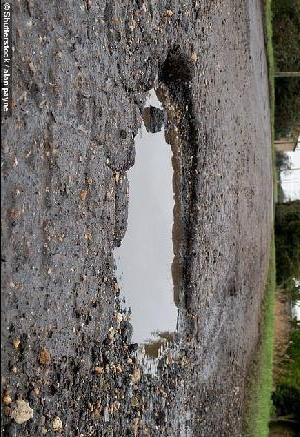pothole: (107, 46, 202, 396)
